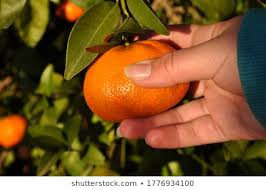orange: (76, 40, 193, 116)
